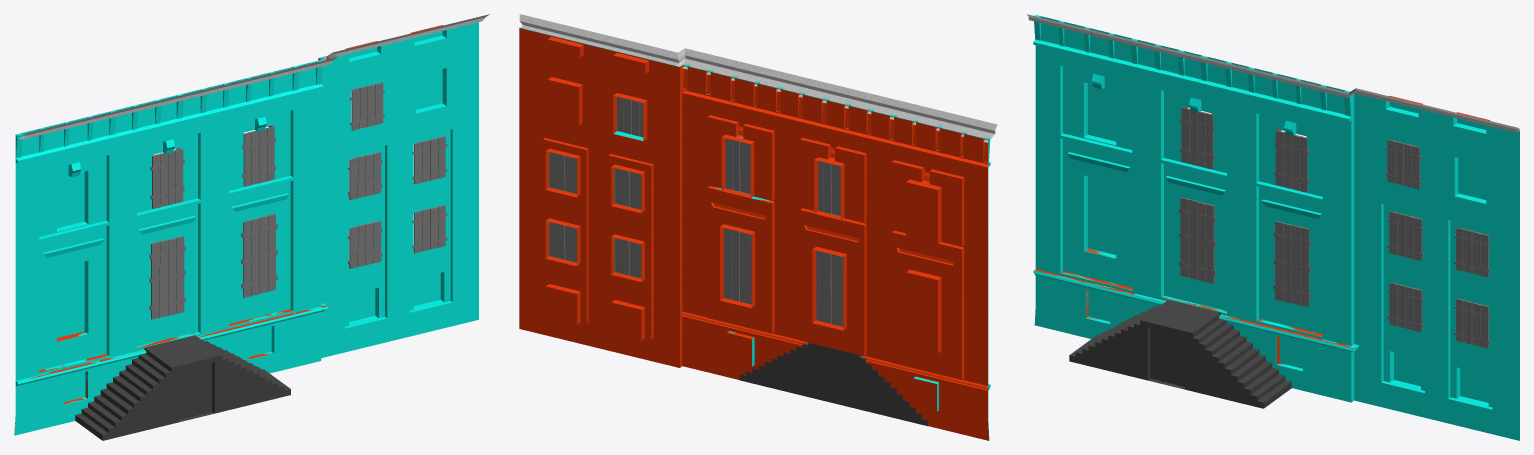
File: FPLT.dae
3 views of the same model, side by side, from view 1: azimuth 30°, elevation 25°; view 2: azimuth 150°, elevation 25°; view 3: azimuth 330°, elevation 25° (orthographic). The views are drawn at different scales.
Visible parts, largest first — view 1: PLAASTER, STAIRS, ROOF, LUIK_1_L, LUIK_2_L, LUIK_1_R, LUIK_2_R, FACADE, LUIK_4_L, LUIK_3_L, LUIK_3_R, LUIK_4_R (+10 smaller); view 2: FACADE, ROOF, STAIRS, PLAASTER, LUIK_1_R, LUIK_2_R, LUIK_2_L, LUIK_1_L, LUIK_4_R, LUIK_3_R, LUIK_7_R, LUIK_9_R (+6 smaller); view 3: PLAASTER, STAIRS, ROOF, LUIK_2_L, LUIK_2_R, LUIK_1_R, LUIK_1_L, FACADE, LUIK_4_R, LUIK_3_R, LUIK_4_L, LUIK_3_L (+10 smaller).
Boxes of the visible parts, x1=… form: PLAASTER: x1=14, y1=22, x2=478, y2=435; STAIRS: x1=75, y1=335, x2=290, y2=440; ROOF: x1=18, y1=14, x2=489, y2=139; LUIK_1_L: x1=241, y1=218, x2=259, y2=297; LUIK_2_L: x1=149, y1=239, x2=167, y2=319; LUIK_1_R: x1=259, y1=213, x2=277, y2=293; LUIK_2_R: x1=168, y1=236, x2=185, y2=315; FACADE: x1=14, y1=25, x2=443, y2=434; LUIK_4_L: x1=242, y1=130, x2=259, y2=186; LUIK_3_L: x1=150, y1=153, x2=167, y2=208; LUIK_3_R: x1=168, y1=148, x2=184, y2=205; LUIK_4_R: x1=259, y1=126, x2=275, y2=182; FACADE: x1=519, y1=28, x2=988, y2=440; ROOF: x1=519, y1=14, x2=997, y2=142; STAIRS: x1=739, y1=342, x2=928, y2=426; PLAASTER: x1=519, y1=27, x2=990, y2=440; LUIK_1_R: x1=724, y1=228, x2=739, y2=301; LUIK_2_R: x1=816, y1=250, x2=831, y2=323; LUIK_2_L: x1=831, y1=254, x2=843, y2=326; LUIK_1_L: x1=739, y1=232, x2=751, y2=304; LUIK_4_R: x1=725, y1=138, x2=740, y2=191; LUIK_3_R: x1=818, y1=161, x2=831, y2=213; LUIK_7_R: x1=549, y1=152, x2=565, y2=190; LUIK_9_R: x1=549, y1=222, x2=565, y2=259; PLAASTER: x1=1033, y1=15, x2=1519, y2=440; STAIRS: x1=1069, y1=299, x2=1291, y2=408; ROOF: x1=1026, y1=14, x2=1519, y2=132; LUIK_2_L: x1=1179, y1=197, x2=1197, y2=279; LUIK_2_R: x1=1197, y1=201, x2=1215, y2=283; LUIK_1_R: x1=1292, y1=225, x2=1310, y2=306; LUIK_1_L: x1=1273, y1=221, x2=1291, y2=303; FACADE: x1=1034, y1=96, x2=1490, y2=364; LUIK_4_R: x1=1291, y1=135, x2=1309, y2=192; LUIK_3_R: x1=1197, y1=111, x2=1214, y2=169; LUIK_4_L: x1=1274, y1=130, x2=1291, y2=188; LUIK_3_L: x1=1180, y1=107, x2=1197, y2=165.
Bounding box in the file's own units: 187850 × 117305 × 24755.
